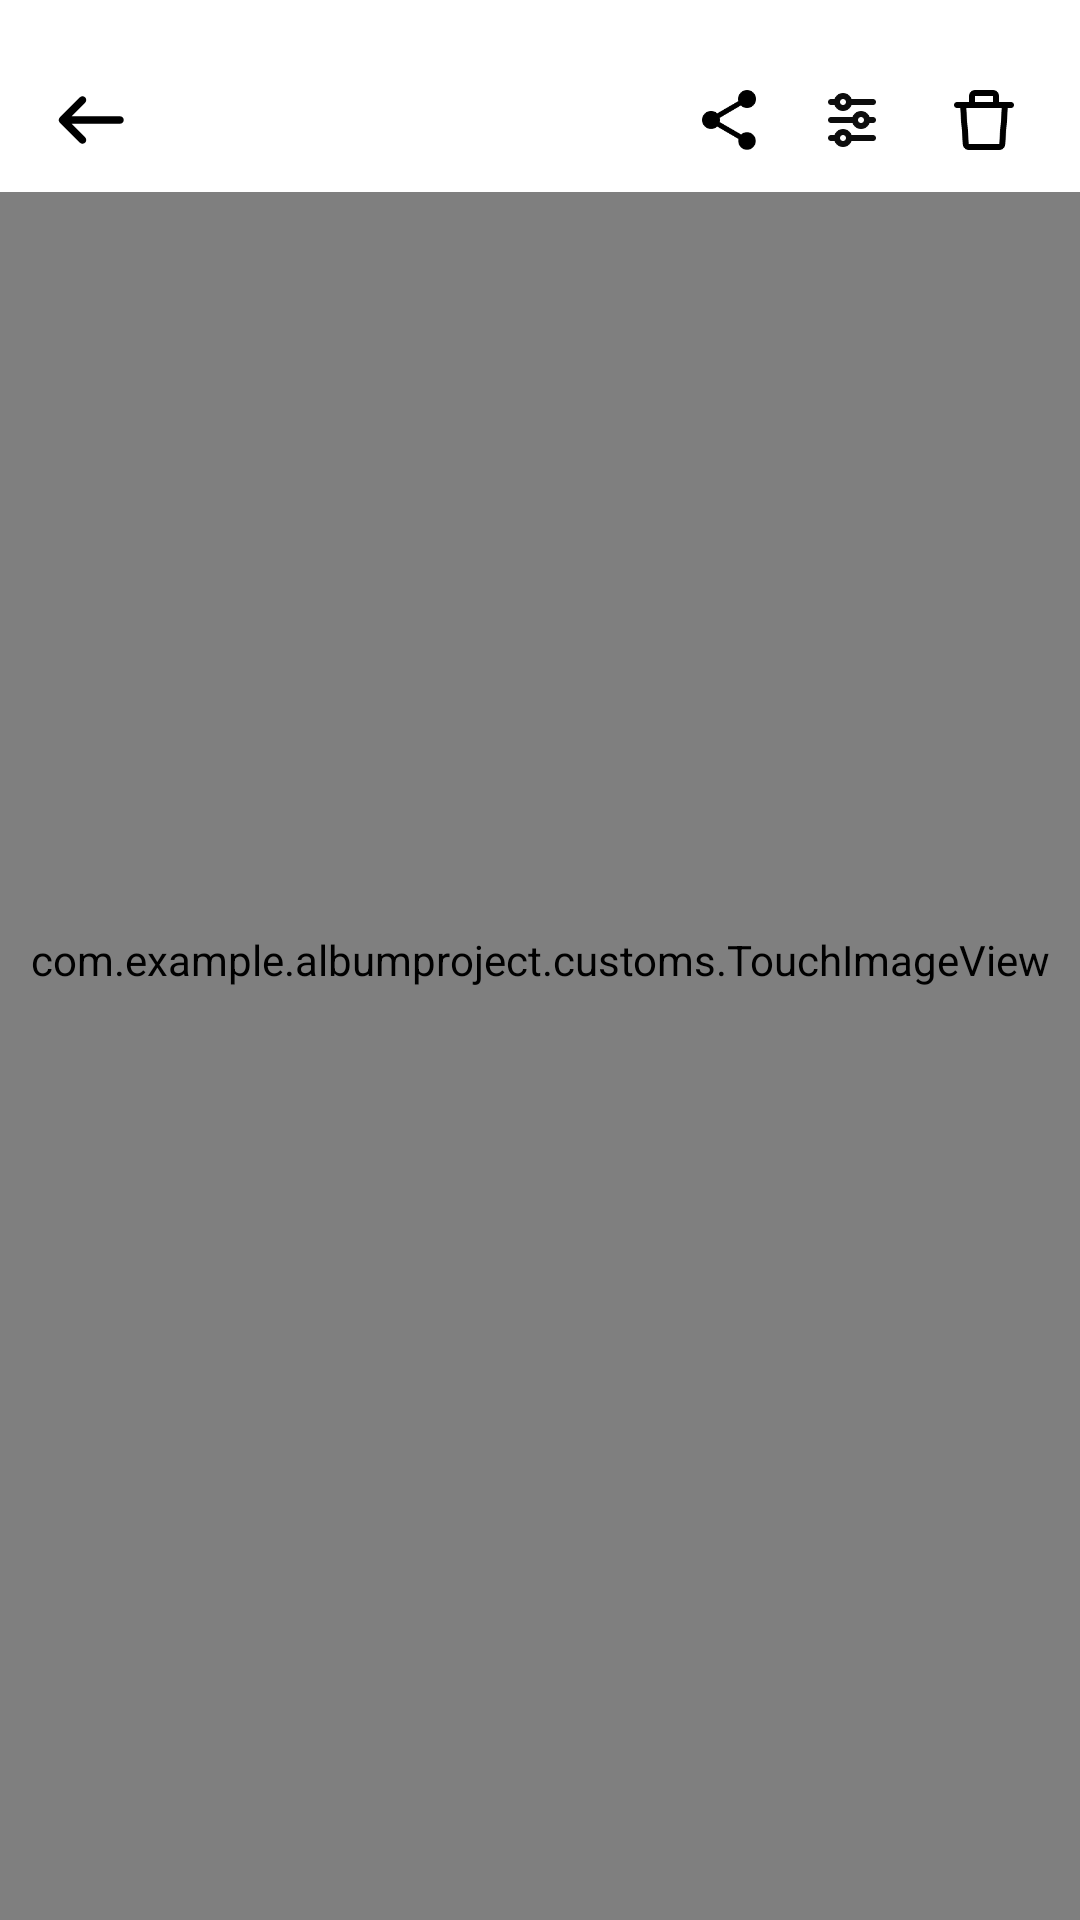

Named icons in this screenshot (1080*1920) and their bounding boxes, [x1=x1, y1=y1, x2=x2, y2=y2]:
arrow left: [x1=58, y1=96, x2=124, y2=144]
delete: [x1=954, y1=90, x2=1014, y2=150]
share: [x1=702, y1=90, x2=756, y2=150]
